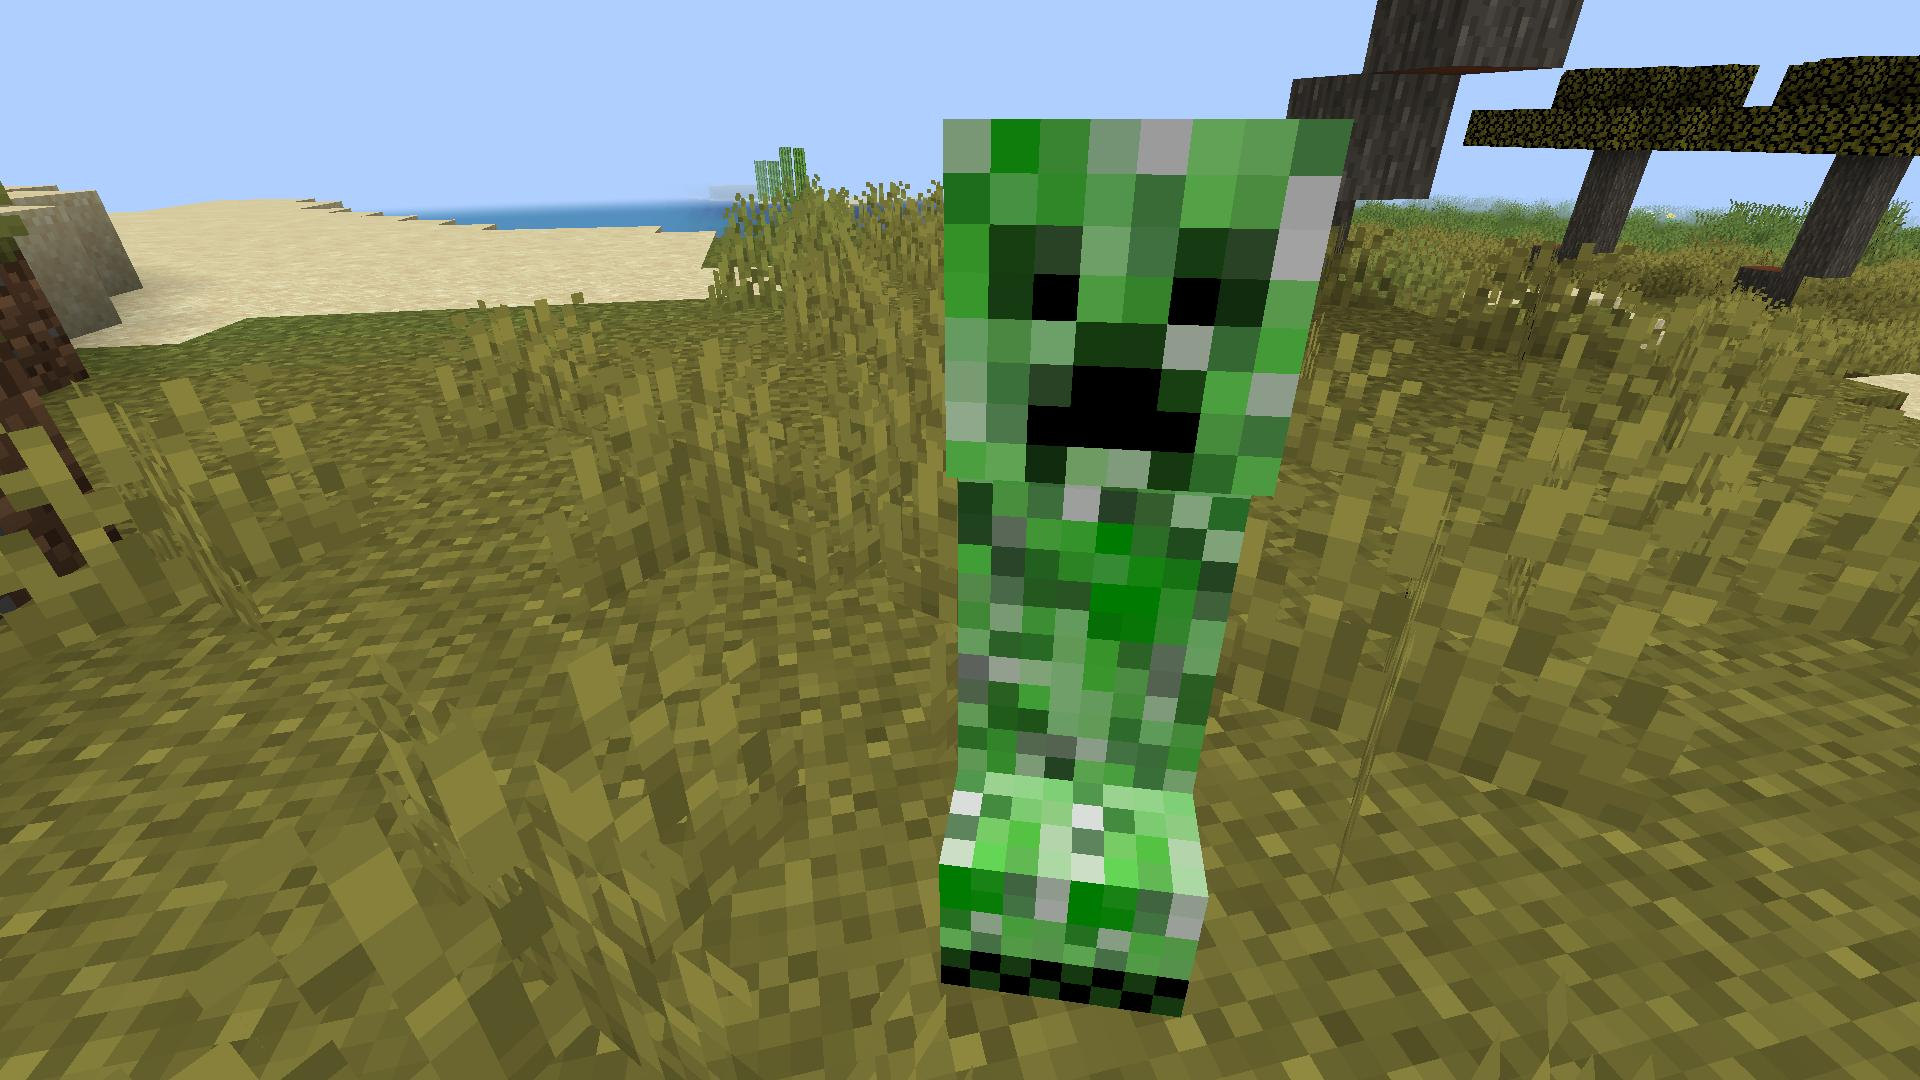creeper: (920, 107, 1360, 1019)
